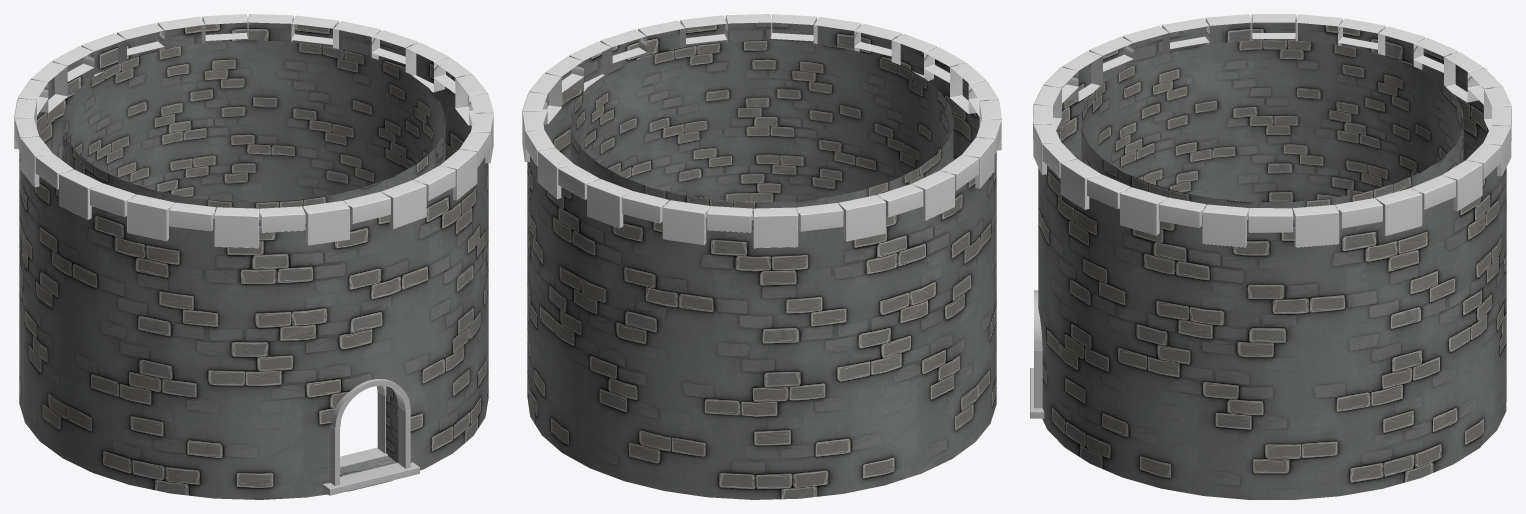
File: SM_Tower_BaseDoor.fbx
The picture shows the model from 3 angles, left to right: view 1: azimuth 30°, elevation 25°; view 2: azimuth 150°, elevation 25°; view 3: azimuth 270°, elevation 25°; orthographic projection.
Parts seen in each view (by area): view 1: SM_Tower_BaseDoor_LOD0; view 2: SM_Tower_BaseDoor_LOD0; view 3: SM_Tower_BaseDoor_LOD0.
Part boxes in pixels (<box>): SM_Tower_BaseDoor_LOD0: <box>14,14,493,499</box>; SM_Tower_BaseDoor_LOD0: <box>522,14,1001,499</box>; SM_Tower_BaseDoor_LOD0: <box>1030,14,1511,499</box>.
Size of what is drawn, in the model's own units: 15.36 by 10.13 by 15.46.
